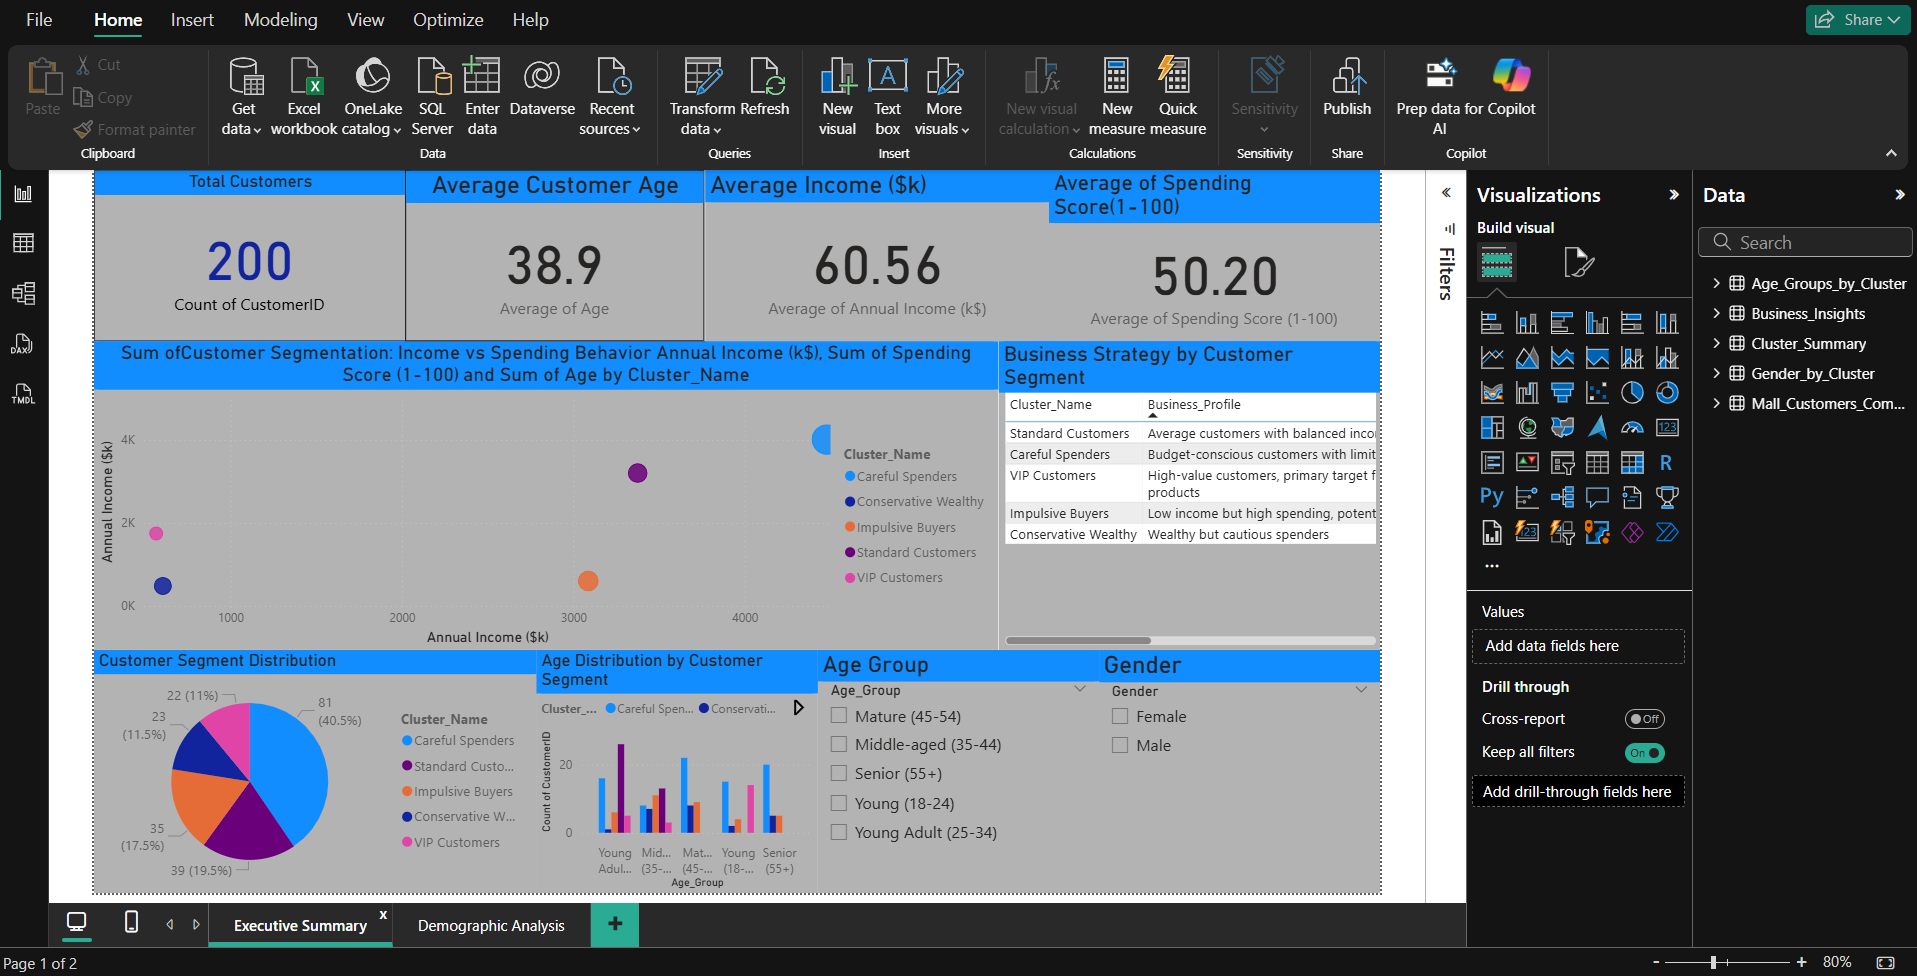

The dashboard page shown, as its layout file describes it:
{"tool":"powerbi","page":{"name":"Executive Summary","canvas":[1280,720],"ordinal":0},"visuals":[{"type":"card","title":"Total Customers","fields":{"Values":["CountNonNull(Mall_Customers_Complete.CustomerID)"]},"box":[0,0,310.1,170.2],"z":0},{"type":"scatterChart","title":"Sum ofCustomer Segmentation: Income vs Spending Behavior Annual Income (k$), Sum of Spending Score (1-100) and Sum of Age by Cluster_Name","fields":{"X":["Sum(Mall_Customers_Complete.Annual Income (k$))"],"Y":["Sum(Mall_Customers_Complete.Spending Score (1-100))"],"Series":["Mall_Customers_Complete.Cluster_Name"],"Size":["Sum(Mall_Customers_Complete.Age)"]},"box":[0,170.2,900.2,307.4],"z":1000},{"type":"pieChart","title":"Customer Segment Distribution","fields":{"Y":["CountNonNull(Mall_Customers_Complete.CustomerID)"],"Category":["Mall_Customers_Complete.Cluster_Name"]},"box":[0,477.5,440.5,242.9],"z":2000},{"type":"slicer","title":"Gender","fields":{"Values":["Mall_Customers_Complete.Gender"]},"box":[1000.3,477.5,279.9,242.9],"z":3000},{"type":"slicer","title":"Age Group","fields":{"Values":["Mall_Customers_Complete.Age_Group"]},"box":[720.4,477.5,279.9,242.9],"z":4000},{"type":"clusteredColumnChart","title":"Age Distribution by Customer Segment","fields":{"Category":["Mall_Customers_Complete.Age_Group"],"Y":["CountNonNull(Mall_Customers_Complete.CustomerID)"],"Series":["Mall_Customers_Complete.Cluster_Name"]},"box":[440.5,477.5,279.9,242.9],"z":5000},{"type":"card","title":"Average Customer Age","fields":{"Values":["Avg(Mall_Customers_Complete.Age)"]},"box":[310.1,0,297.8,170.2],"z":6000},{"type":"card","title":"Average Income ($k)","fields":{"Values":["Avg(Mall_Customers_Complete.Annual Income (k$))"]},"box":[607.9,0,343.1,170.2],"z":7000},{"type":"card","title":"Average of Spending Score(1-100)","fields":{"Values":["Avg(Mall_Customers_Complete.Spending Score (1-100))"]},"box":[950.9,0,329.3,170.2],"z":8000},{"type":"tableEx","title":"Business Strategy by Customer Segment","fields":{"Values":["Business_Insights.Cluster_Name","Business_Insights.Business_Profile","Business_Insights.Marketing_Strategy","Business_Insights.Revenue_Potential"]},"box":[900.2,170.2,380.1,307.4],"z":9000}]}

Visuals, with their boxes on the page's 1280x720 design canvas (x1, y1, x2, y2). These are canvas units, not pixel positions in the 1917x976 screenshot, which may show the page scaled, cropped or inside an application window:
"Total Customers" card: (0,0,310,170)
"Sum ofCustomer Segmentation: Income vs Spending Behavior Annual Income (k$), Sum of Spending Score (1-100) and Sum of Age by Cluster_Name" scatterChart: (0,170,900,478)
"Customer Segment Distribution" pieChart: (0,478,440,720)
"Gender" slicer: (1000,478,1280,720)
"Age Group" slicer: (720,478,1000,720)
"Age Distribution by Customer Segment" clusteredColumnChart: (440,478,720,720)
"Average Customer Age" card: (310,0,608,170)
"Average Income ($k)" card: (608,0,951,170)
"Average of Spending Score(1-100)" card: (951,0,1280,170)
"Business Strategy by Customer Segment" tableEx: (900,170,1280,478)
